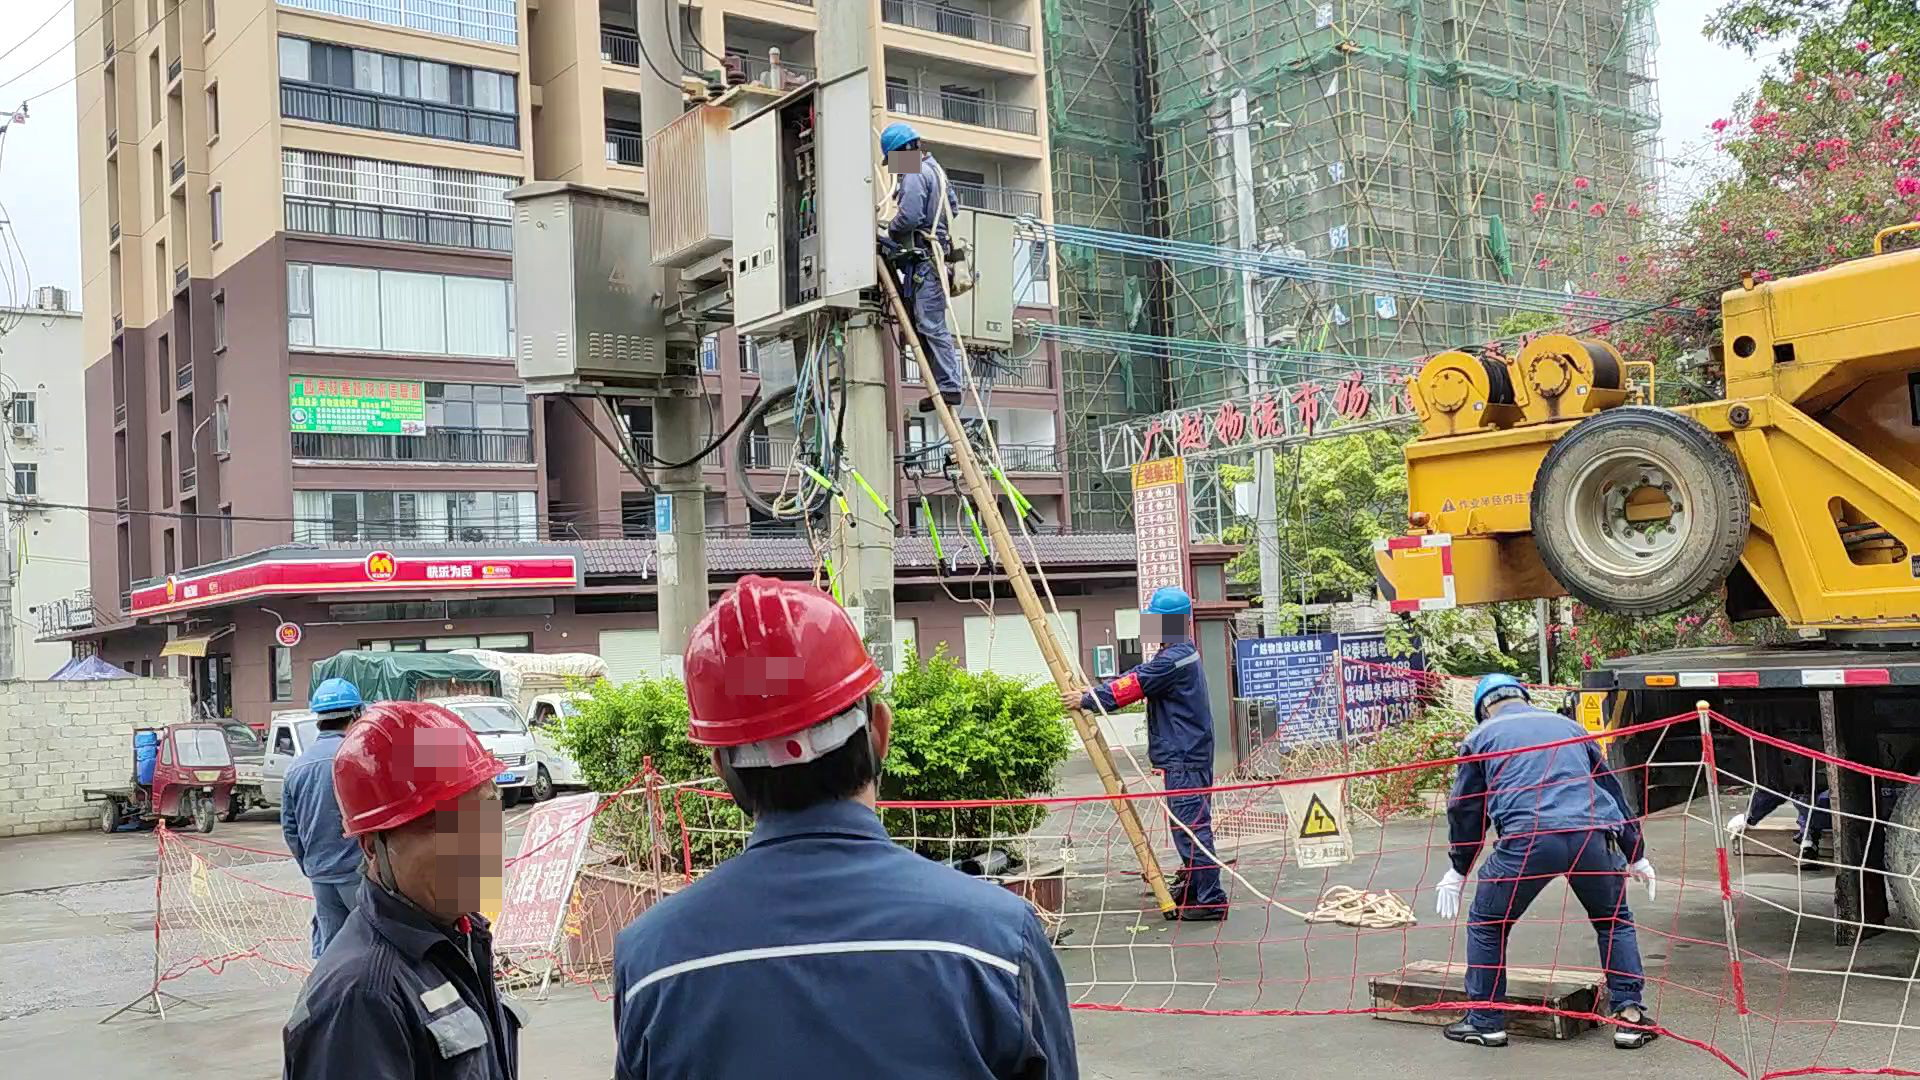badge: (1101, 667, 1143, 705)
downsuit: (1463, 830, 1644, 1010), (895, 271, 968, 396), (1163, 773, 1224, 897)
halt: (686, 576, 888, 799), (335, 700, 515, 915), (309, 673, 364, 733), (1471, 675, 1531, 720), (1145, 585, 1194, 633), (879, 122, 923, 165)
hand: (1060, 688, 1085, 712)
inear: (346, 827, 404, 897), (1159, 617, 1180, 644), (888, 150, 908, 169)
person: (615, 573, 1078, 1080), (286, 692, 533, 1079), (1445, 672, 1651, 1037), (1079, 581, 1231, 904), (870, 118, 979, 409)
support: (1048, 558, 1237, 930)
upsuit: (611, 812, 1088, 1080), (1450, 702, 1625, 839), (1085, 634, 1218, 763), (880, 158, 956, 264), (282, 730, 338, 875)
wglove: (1431, 866, 1466, 917), (1632, 855, 1657, 900), (1724, 813, 1750, 840)
